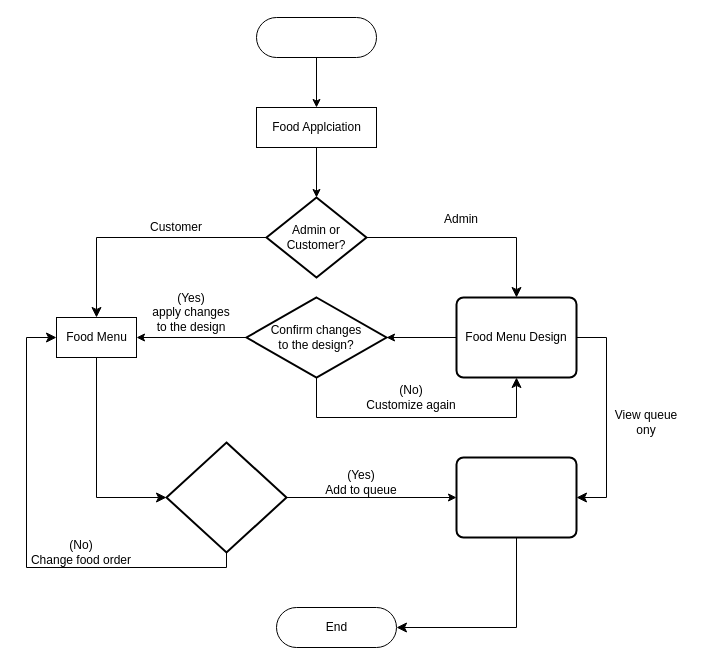
Some shapes in this 704 by 665 pixel diagram are drawn without their labels. Here are the shapes that lost their labels. From the top down, the centre of each, then its label:
the point at 316,37: Start
the point at 226,497: Done choosing food?
the point at 516,497: Queue Order
